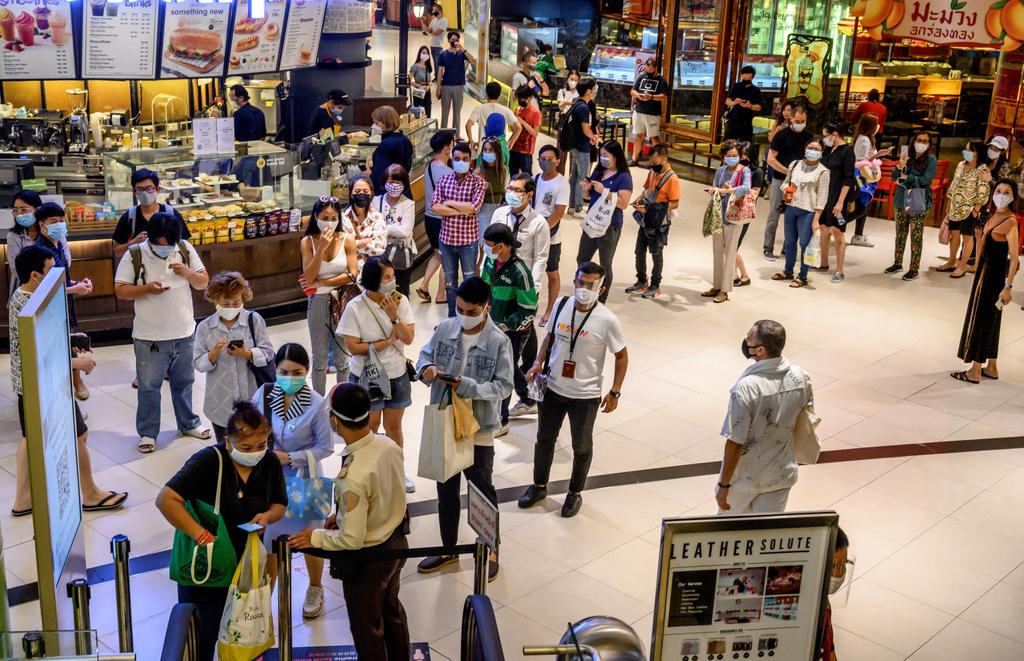with_mask: (225, 432, 269, 466), (453, 296, 487, 333), (273, 360, 308, 394), (573, 274, 605, 309), (362, 269, 400, 297), (216, 289, 245, 322), (11, 196, 39, 229), (504, 180, 536, 208), (148, 233, 177, 262), (132, 178, 160, 208), (41, 215, 70, 243), (314, 206, 341, 235), (481, 237, 513, 261), (989, 185, 1016, 210), (450, 149, 474, 175), (350, 183, 373, 209), (381, 175, 406, 198), (596, 147, 619, 171), (539, 150, 561, 174), (479, 142, 500, 165), (802, 143, 823, 163), (722, 150, 741, 167)
